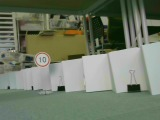speed_10: (32, 51, 51, 68)
